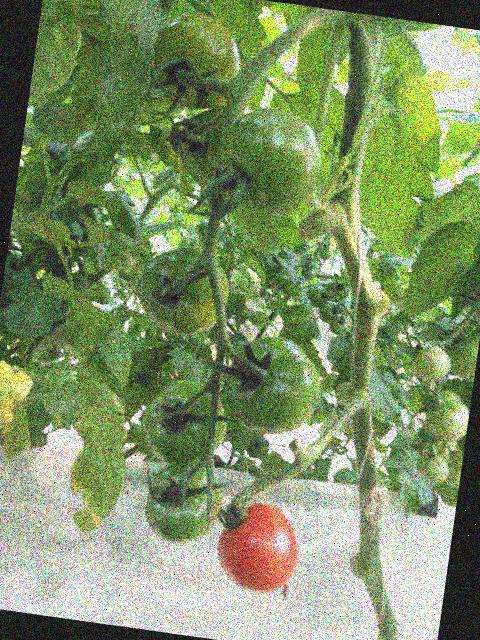l_fully_ripened: (212, 498, 305, 598)
l_green: (214, 101, 328, 221), (221, 332, 327, 441), (146, 8, 246, 115), (134, 239, 235, 343), (137, 374, 232, 471), (140, 456, 227, 551), (171, 99, 227, 193), (423, 396, 471, 445), (409, 343, 454, 384), (447, 329, 480, 382), (414, 451, 452, 487), (425, 388, 464, 415)
